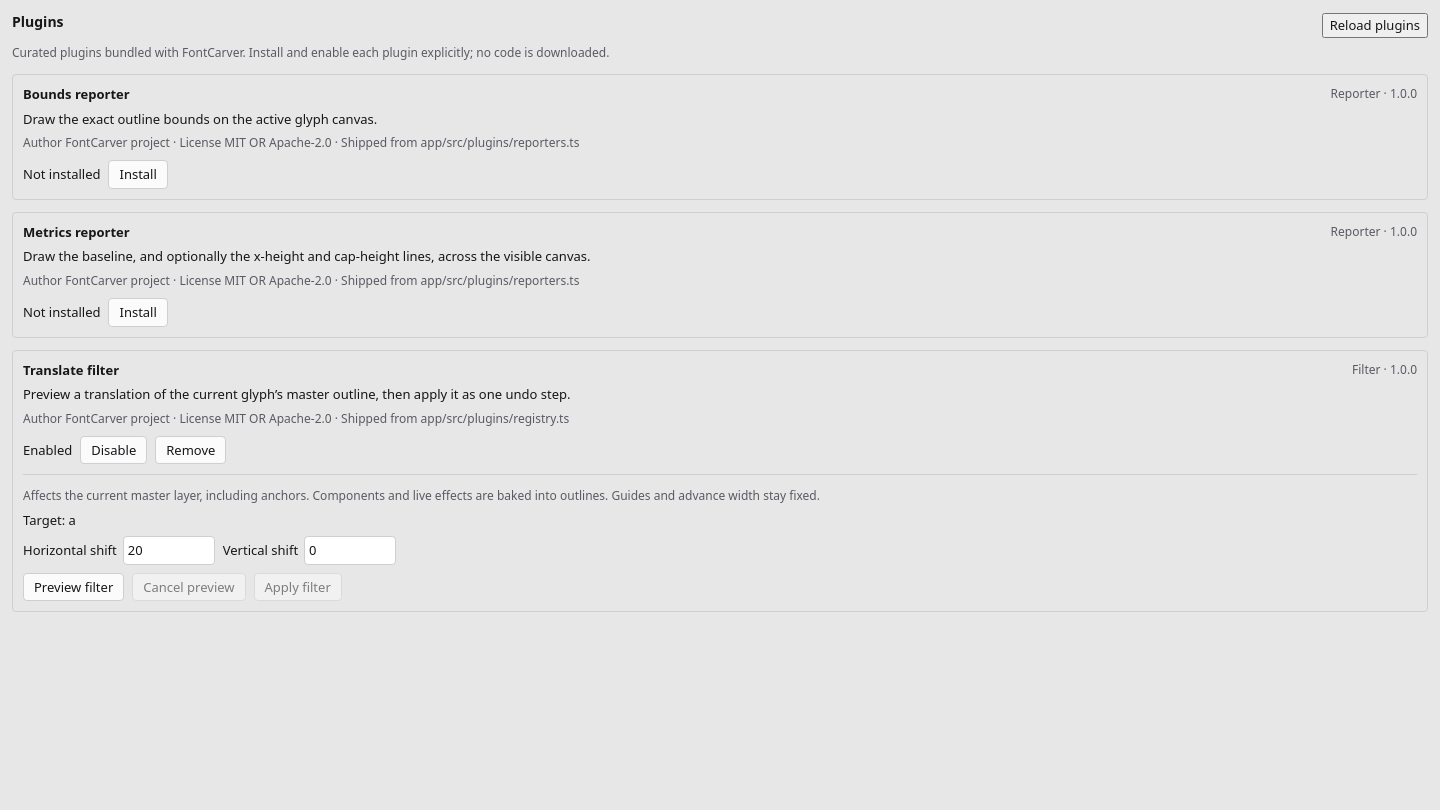
Test case: requires a new preview after changing an offset
The width and height of the screenshot is (1440, 810).
Click the button "Preview filter" at (74, 587), box x1=23 y1=572 x2=124 y2=601
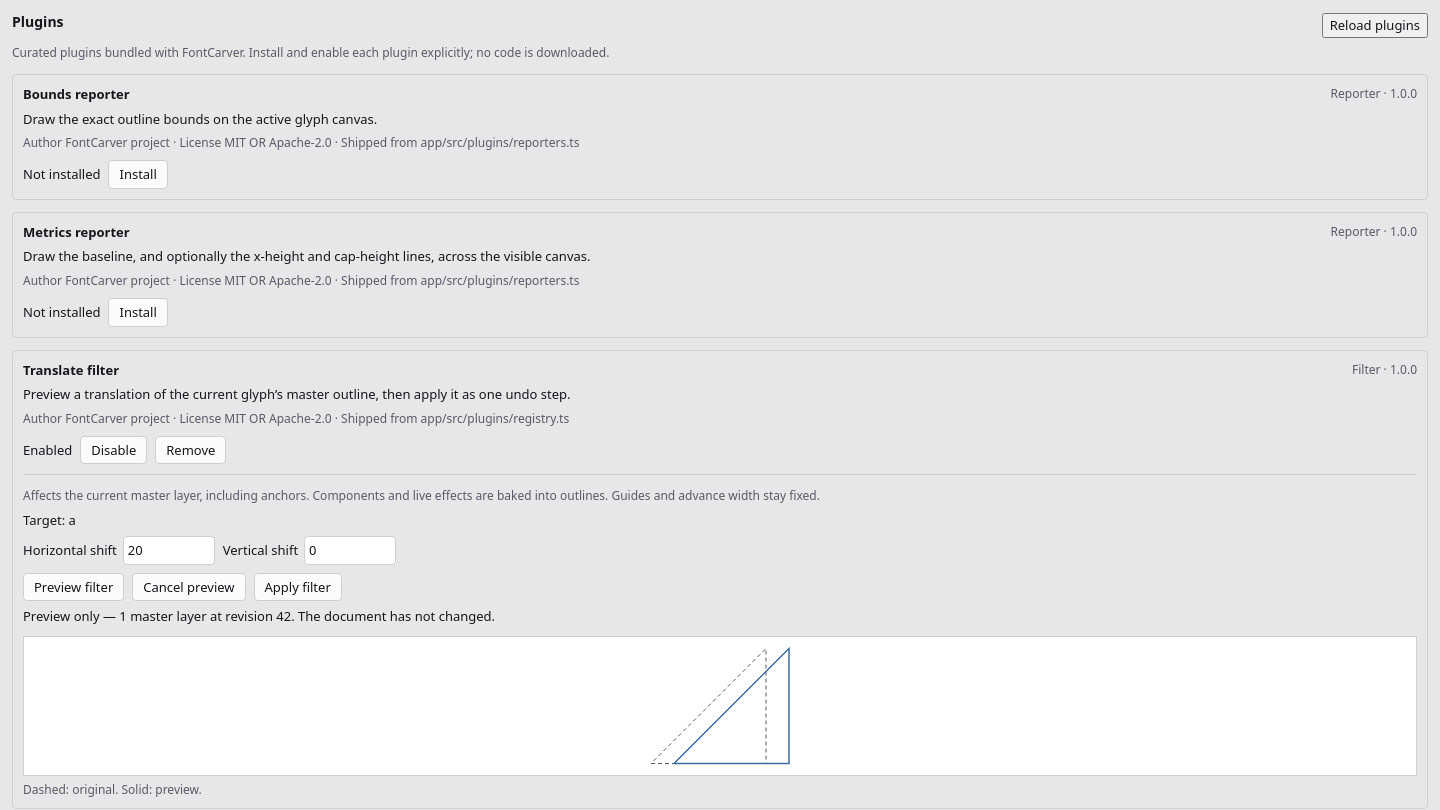
Expected: the button "Apply filter" is enabled, x1=254 y1=572 x2=342 y2=601
Replace the text in the number field labelled "Horizontal shift" with "35" at (169, 550), box x1=123 y1=536 x2=215 y2=564
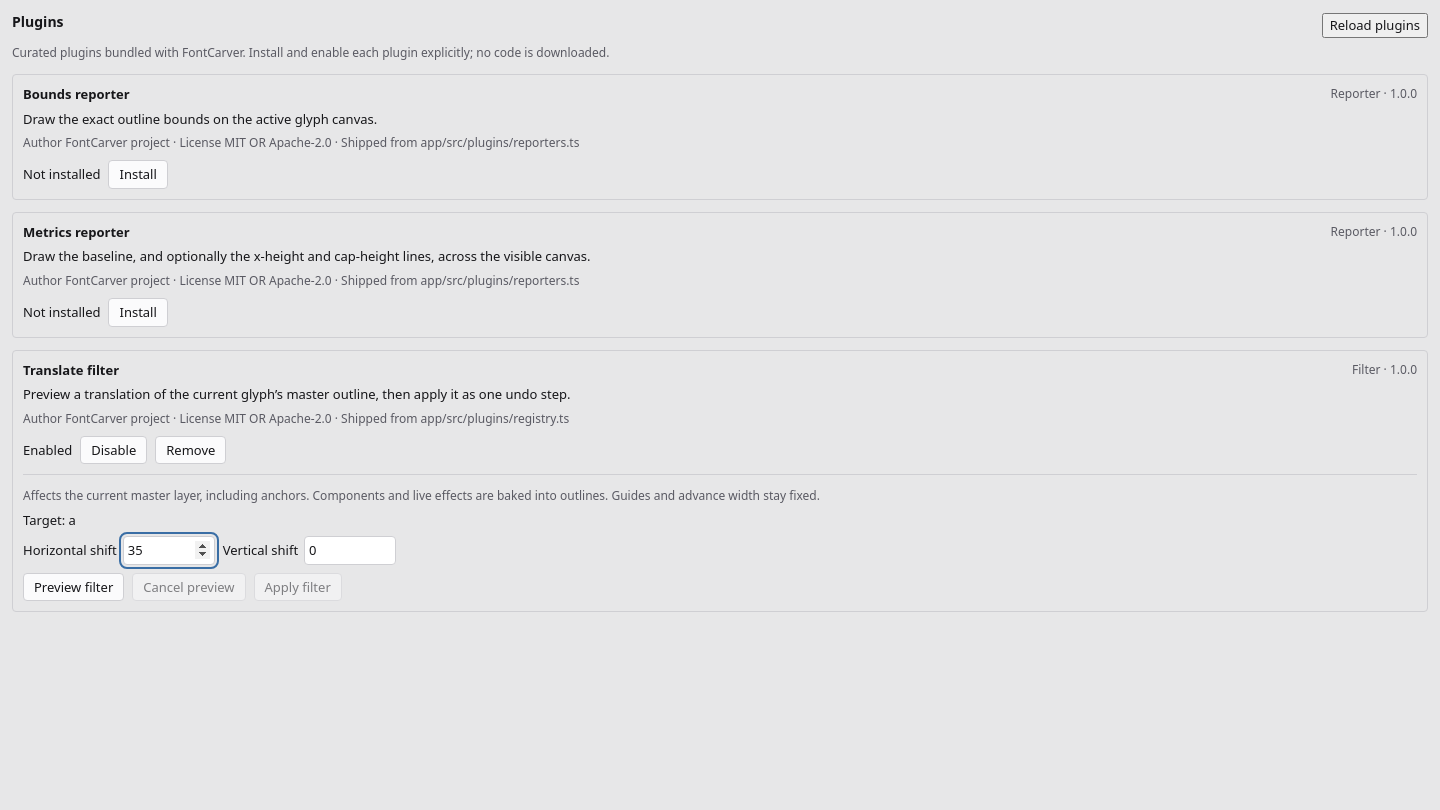
Expected: the button "Apply filter" is disabled, x1=254 y1=572 x2=342 y2=601
Click the button "Preview filter" at (74, 587), box x1=23 y1=572 x2=124 y2=601
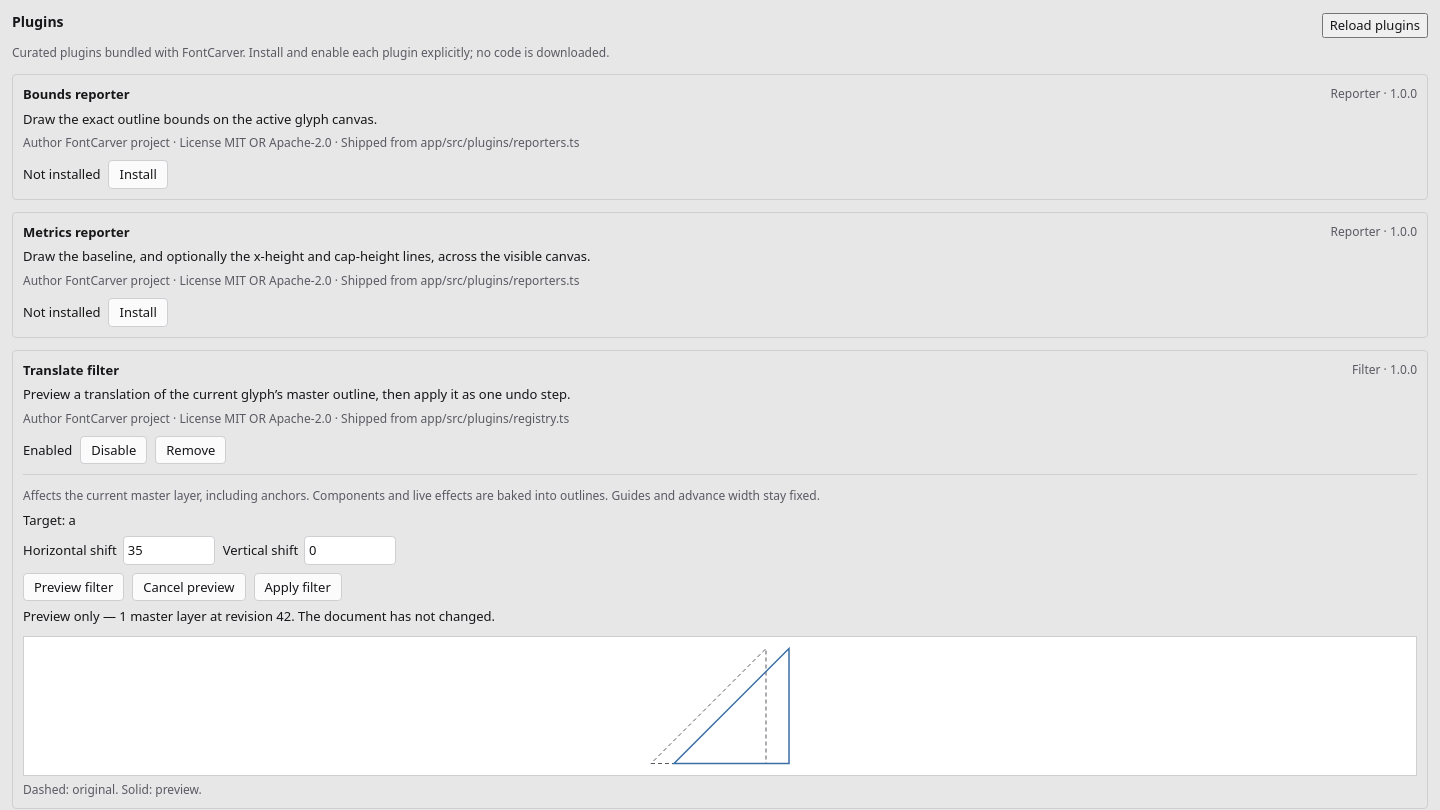
Expected: the button "Apply filter" is enabled, x1=254 y1=572 x2=342 y2=601
